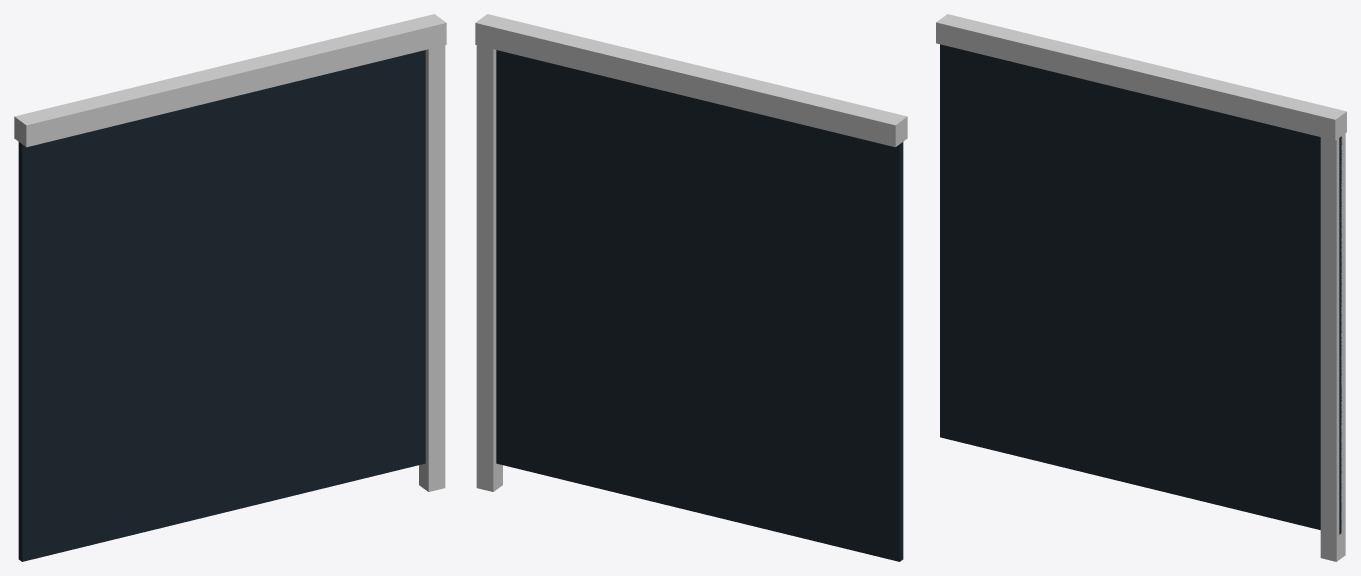
The model's file is balcony_railing_glass.glb.
3 renders of one model, left to right at view 1: azimuth 30°, elevation 25°; view 2: azimuth 150°, elevation 25°; view 3: azimuth 330°, elevation 25°, orthographic. The views are drawn at different scales.
Visible parts, largest first — view 1: rail; view 2: rail; view 3: rail.
Part boxes in pixels (x1,y1,x2,y2): rail: (14,14,446,561); rail: (475,14,907,561); rail: (936,14,1346,561).
Bounding box in the file's own units: 1 × 1.06 × 0.0499.
